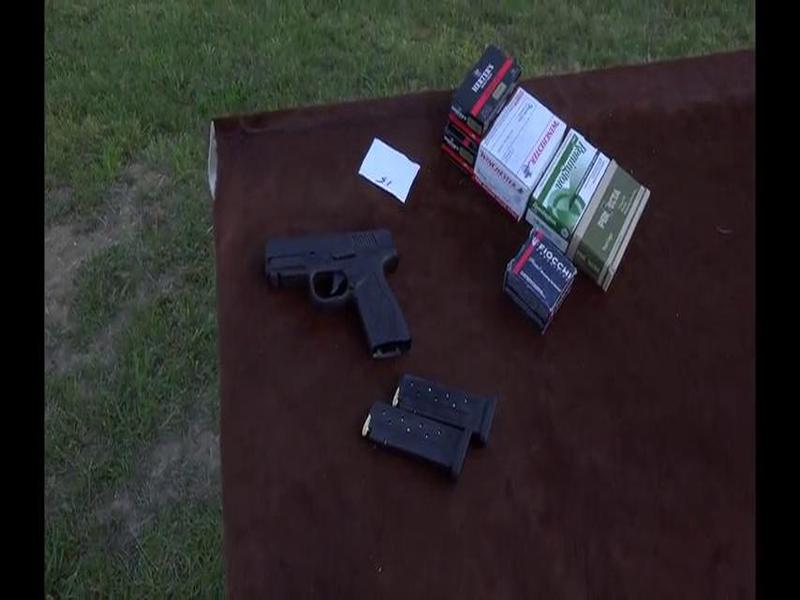Pistola: (253, 220, 428, 367)
